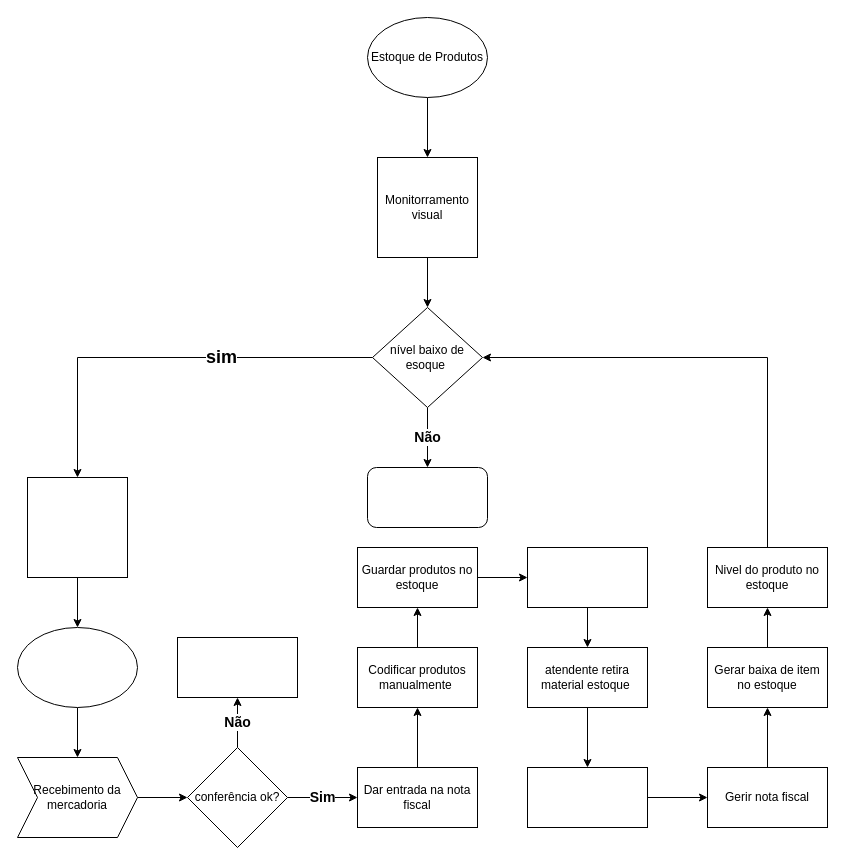
The diagram is 845 pixels wide and 865 high, and some of its shapes have lost their labels. The centre of each missing label's shape, as x and y in pixels:
"Aguardar chegada da mercadoria" goes at point (77, 667).
"cliente efetua o pagamento" goes at point (587, 797).
"Devolução para fornecedor" goes at point (237, 667).
"Fazer pedido ao fornecedor" goes at point (77, 527).
"Não Precisa fazer pedido" goes at point (427, 497).
"Venda no balcão de atendimento" goes at point (587, 577).
